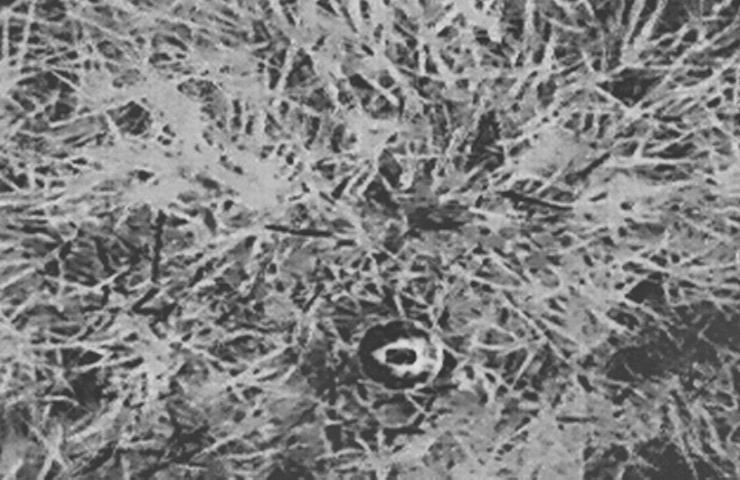landmines: (351, 313, 451, 407)
